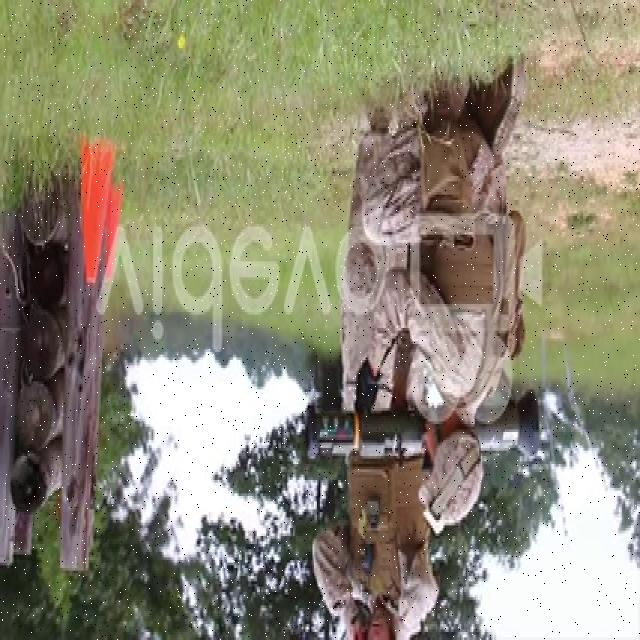bazooka: (300, 382, 546, 473)
